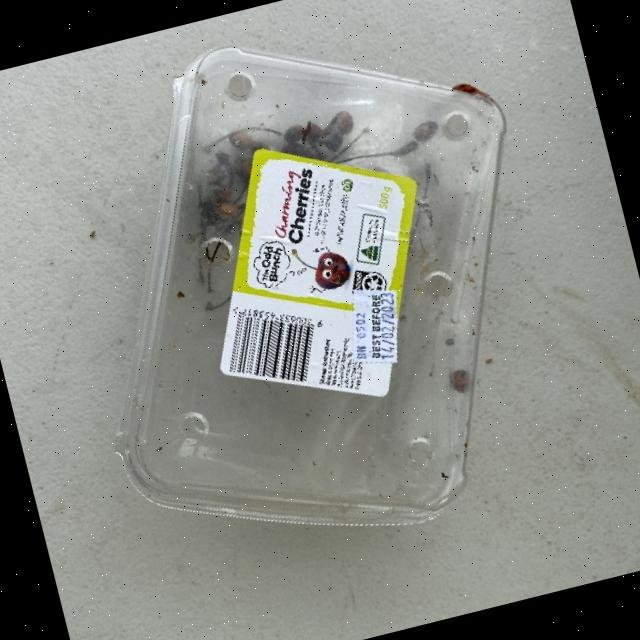plastic: (25, 0, 593, 590)
